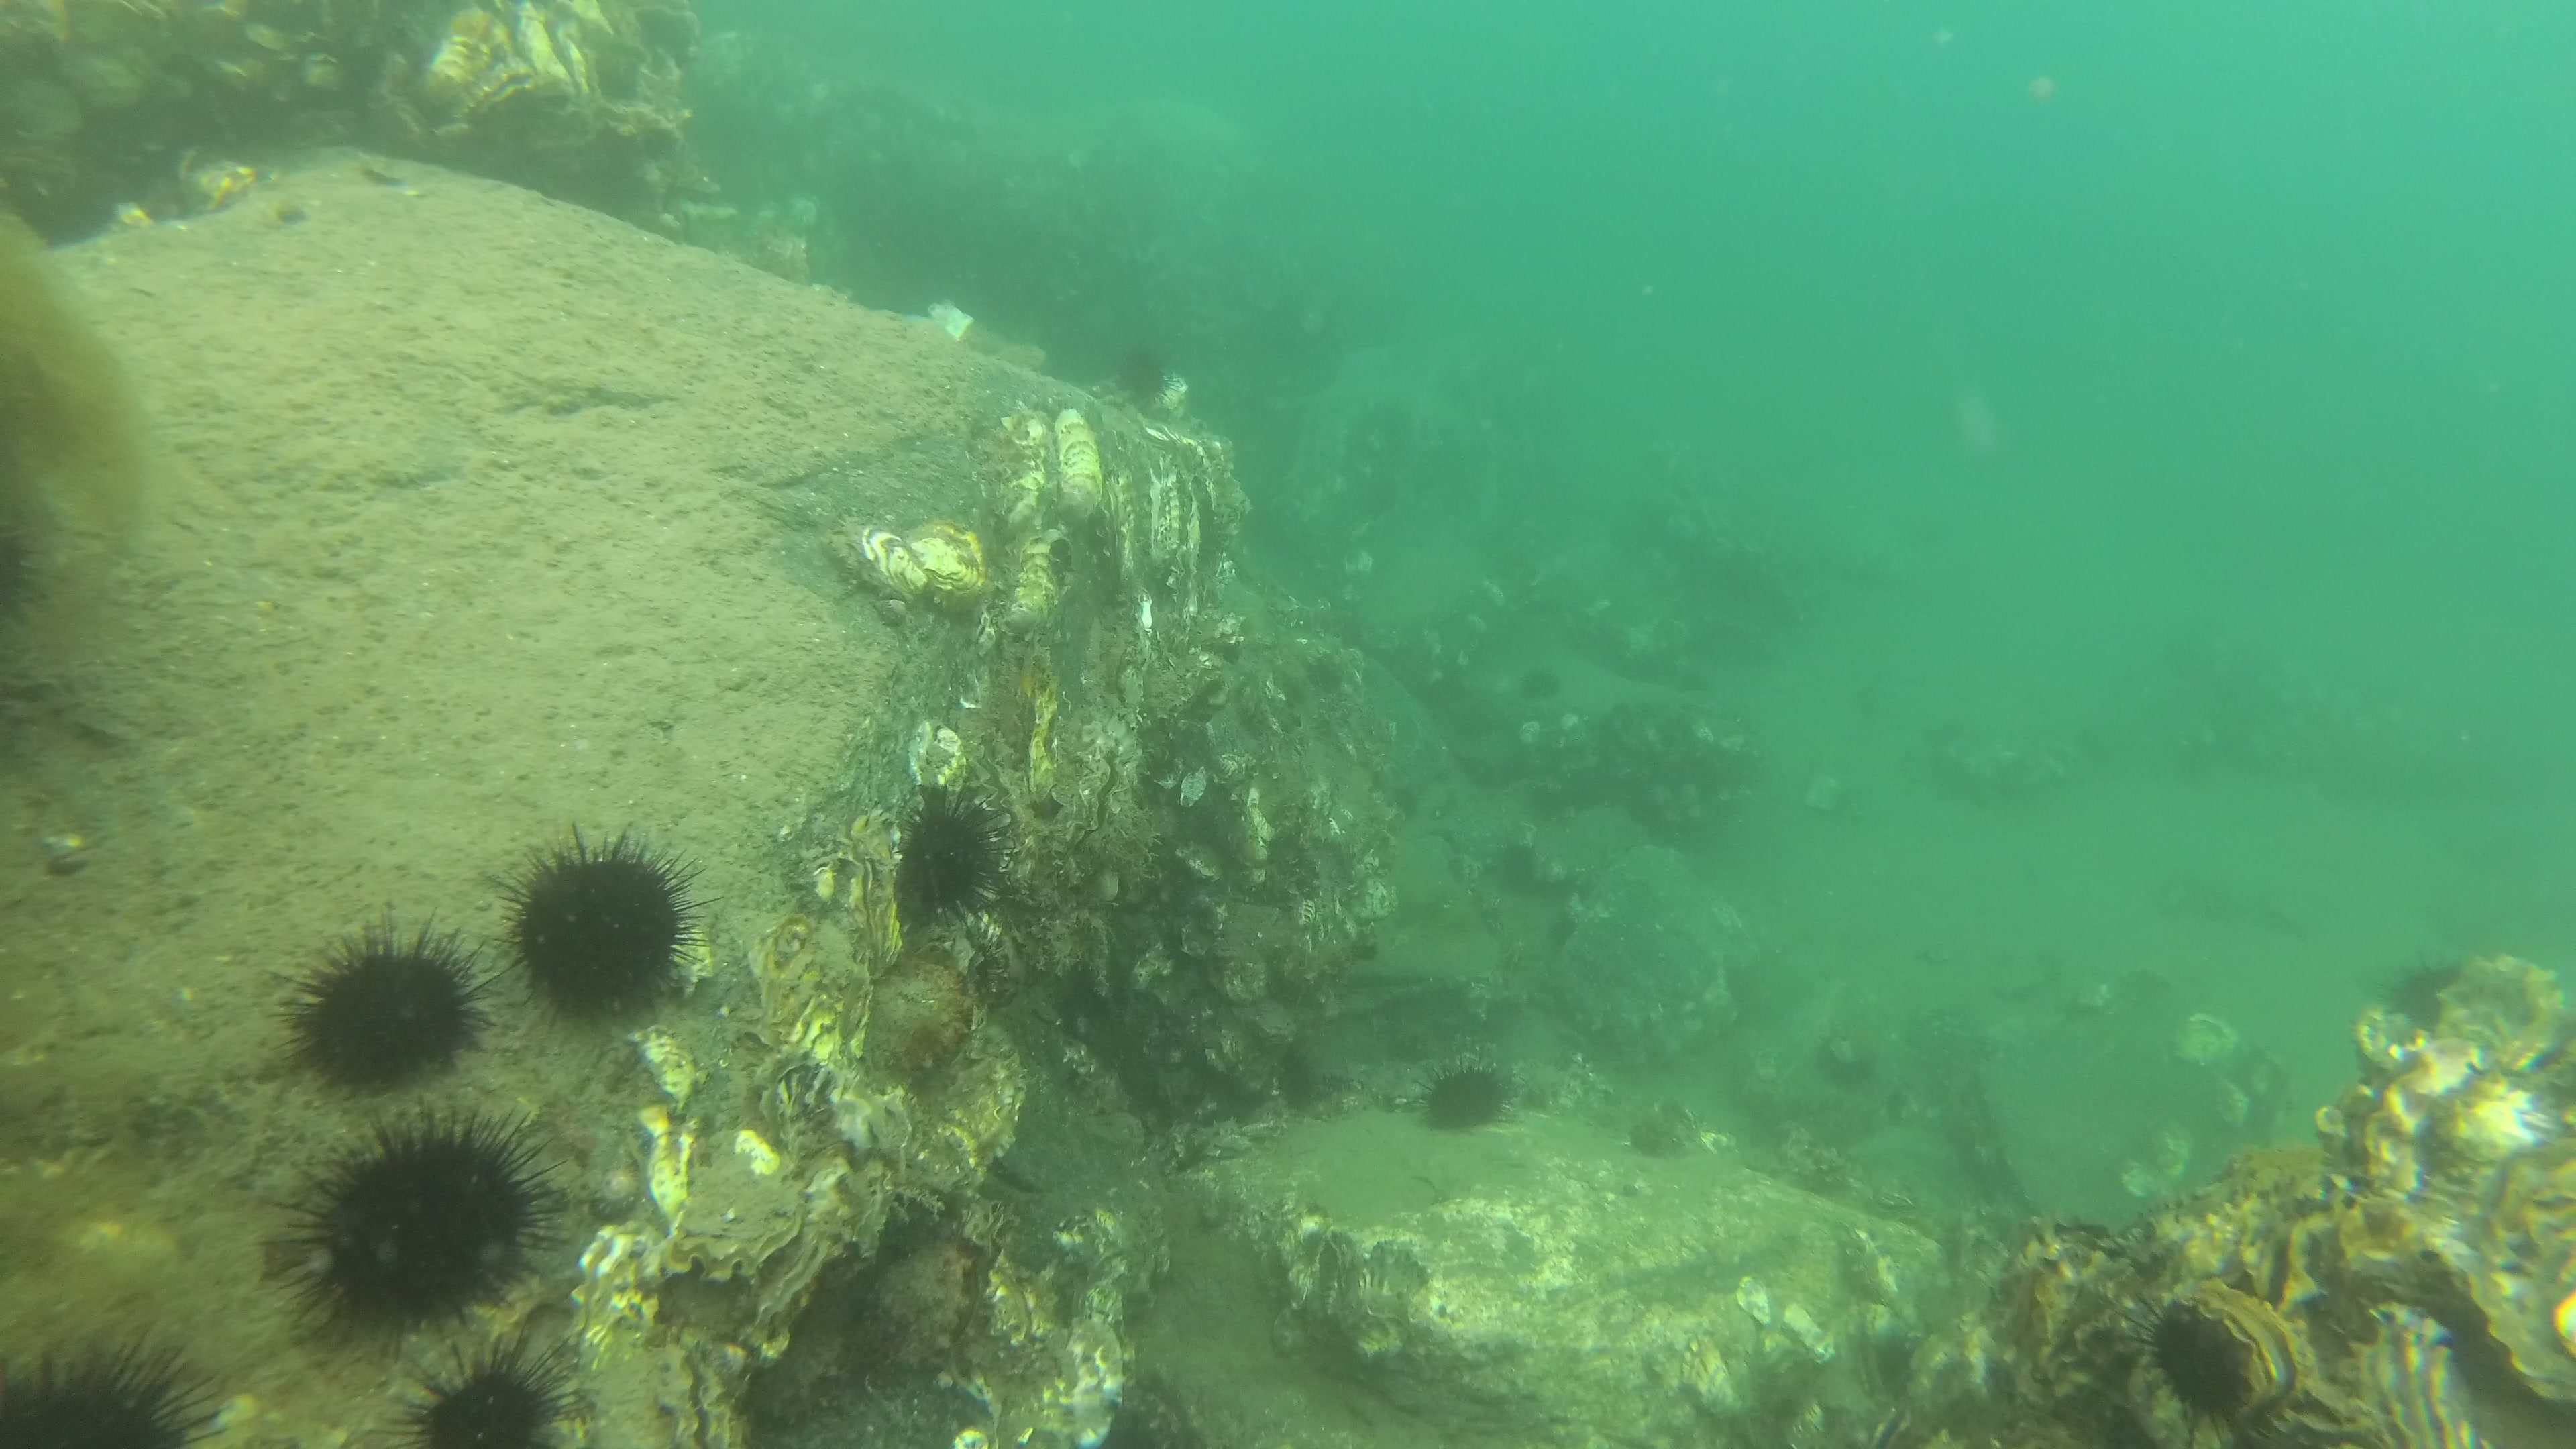echinus: (257, 1116, 564, 1345), (249, 909, 497, 1108), (504, 824, 713, 1037), (11, 1322, 230, 1449), (2112, 1288, 2273, 1445), (386, 1341, 607, 1449), (885, 787, 1008, 945), (1412, 1053, 1513, 1136)
